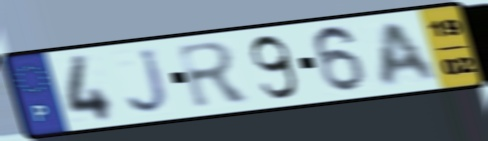4: (62, 52, 117, 125)
6: (311, 22, 373, 97)
9: (246, 32, 301, 101)
A: (379, 19, 442, 89)
J: (125, 45, 174, 116)
R: (174, 39, 256, 112)
